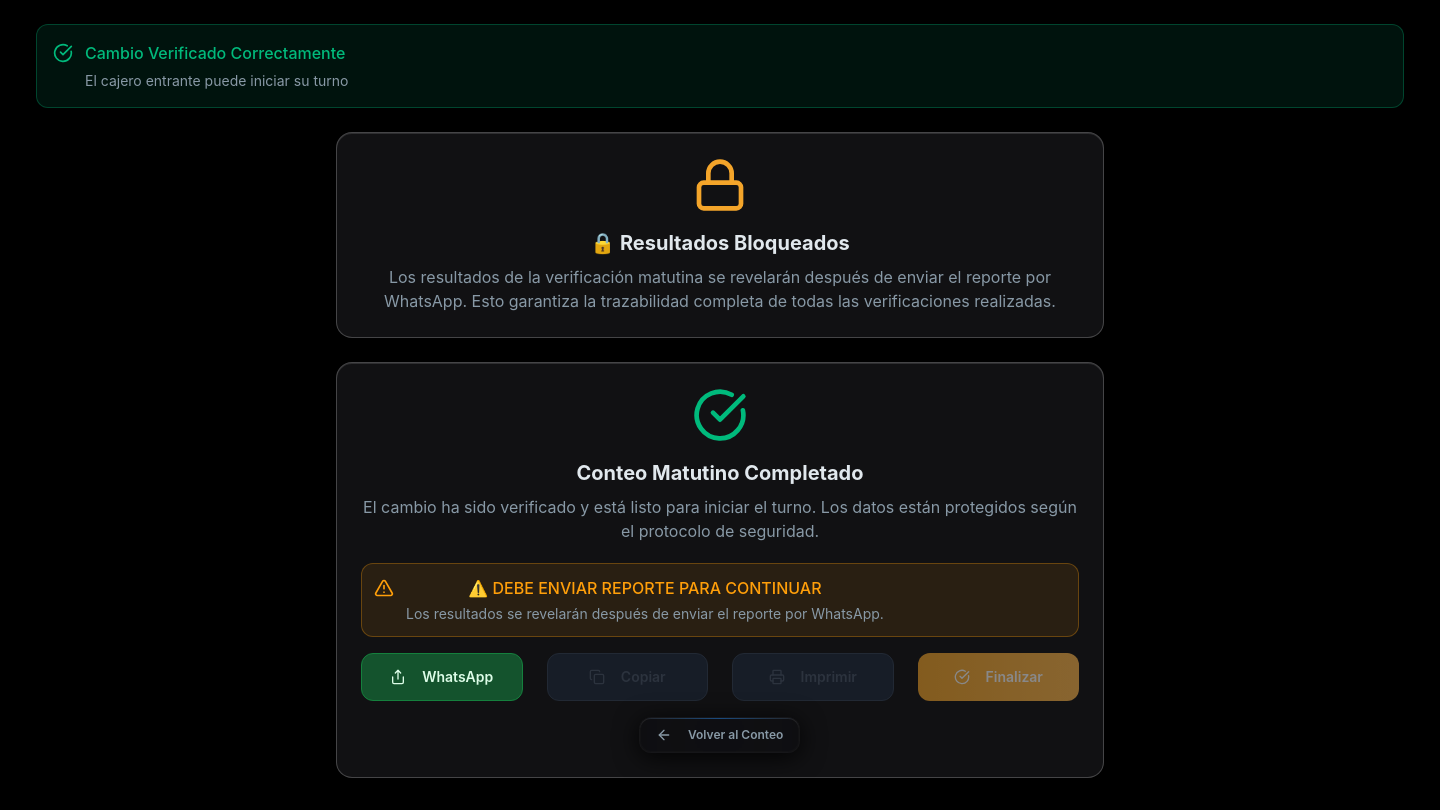
Test case: MorningVerification - v1.3.7 WhatsApp Confirmation Flow › Grupo 2: Flujo WhatsApp exitoso › 2.2 - Después de abrir WhatsApp, debe mostrar botón de confirmación
Click the button "WhatsApp".
click(442, 677)  # box [361,653,522,701]
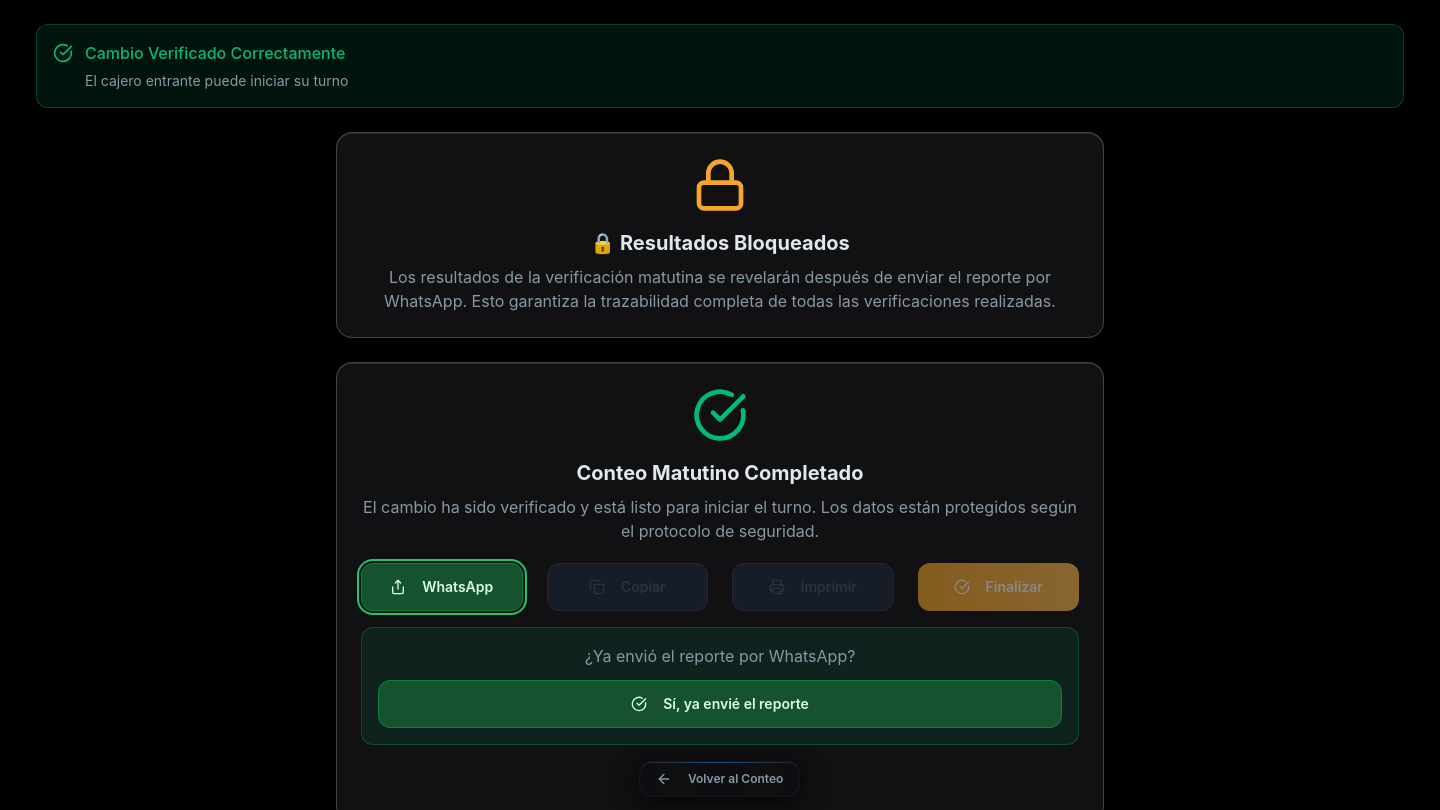
Check: the text "¿Ya envió el reporte por WhatsApp?" is shown, box [585,646,855,666]
Check: the button "Sí, ya envié el reporte" is shown, box [378,680,1062,728]
